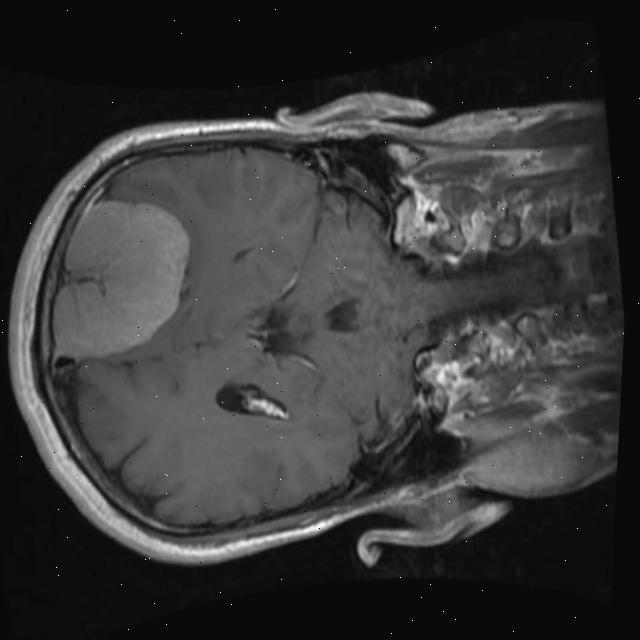Meningioma: (26, 182, 212, 374)
